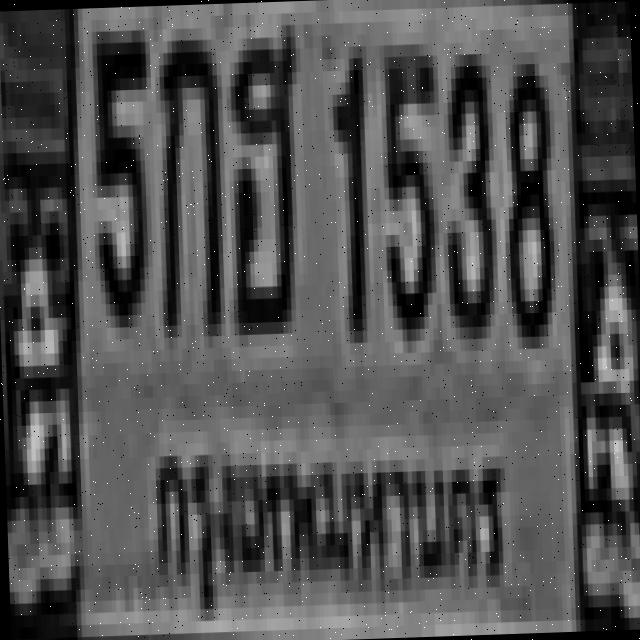1: (325, 34, 371, 332)
10GorGai: (149, 27, 221, 326)
3: (436, 41, 494, 328)
5: (374, 32, 442, 330), (86, 18, 150, 316)
53HorNokHook: (221, 13, 302, 323)
8: (498, 51, 552, 338)
Bangkok: (132, 394, 522, 634)
